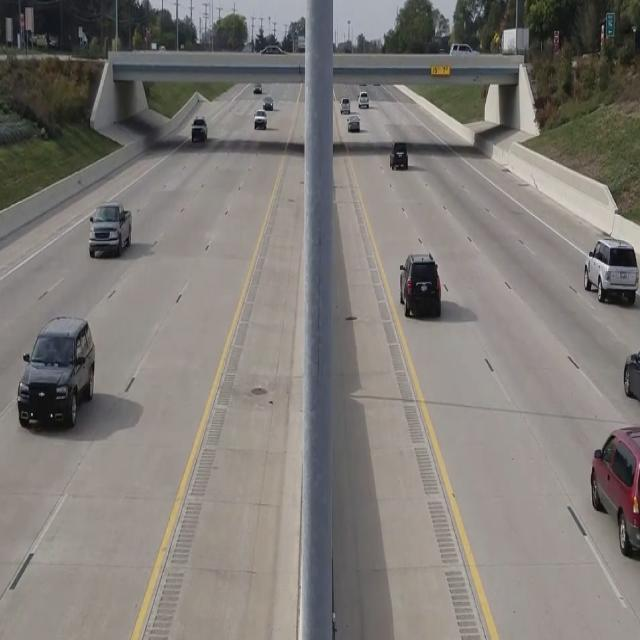car: (16, 314, 95, 429), (583, 237, 639, 304), (398, 252, 441, 318), (87, 203, 132, 258), (623, 342, 640, 425), (390, 141, 407, 169), (191, 116, 207, 142)
